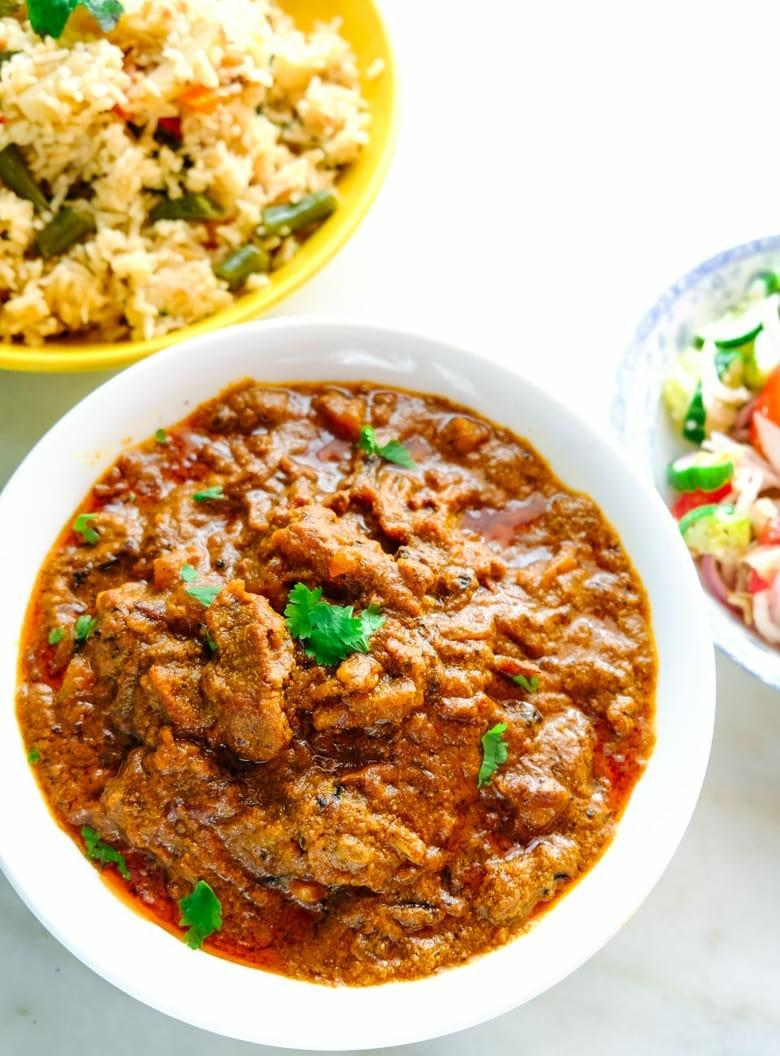Biryani: (0, 0, 368, 346)
MuttonCurry: (19, 382, 660, 978)
